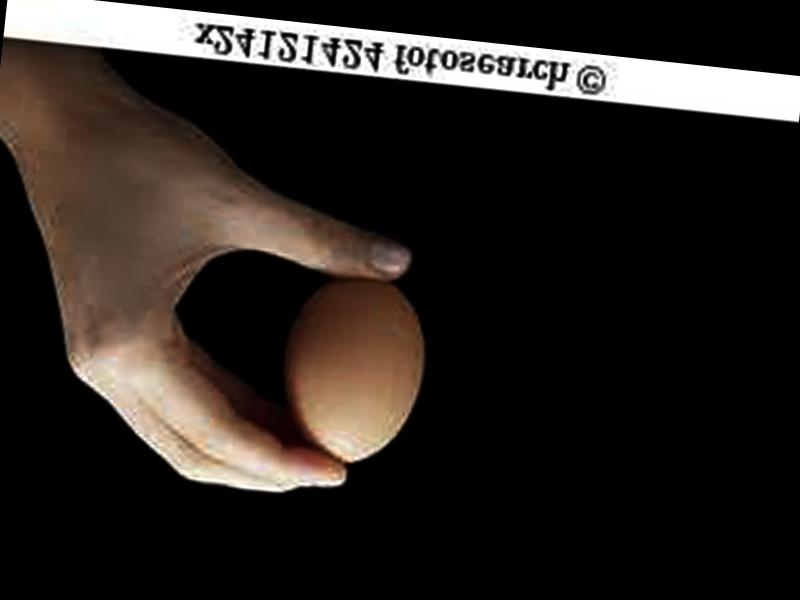Eggs: (274, 270, 432, 475)
